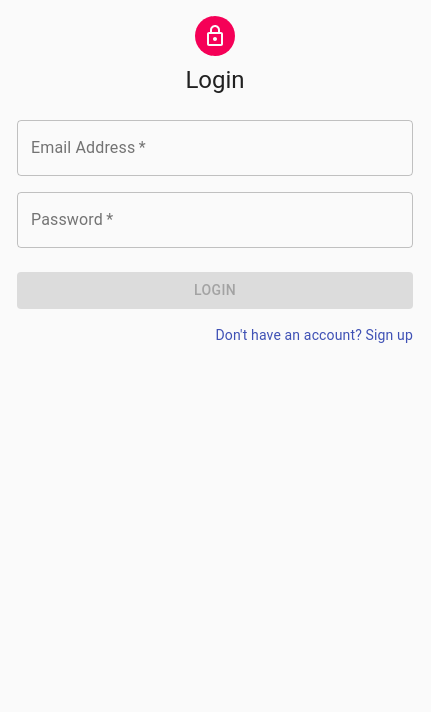
Scenario: Login page shows error after incorrect login
Type "1" into the field with id "email" at (215, 148), box [17, 120, 413, 176]
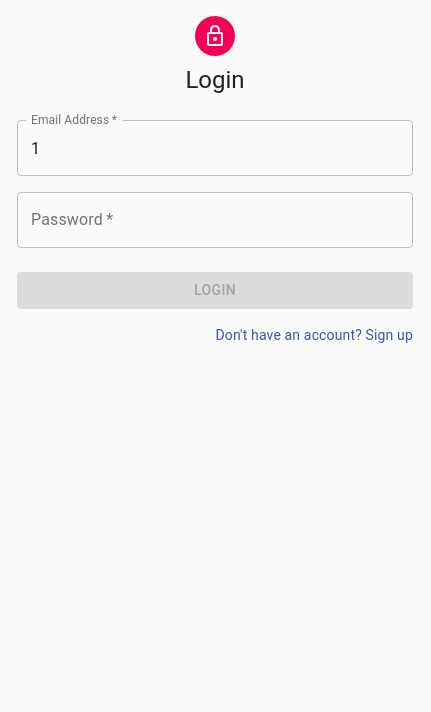
Type "1" into the password field labelled "Password *" at (215, 220), box [17, 192, 413, 248]
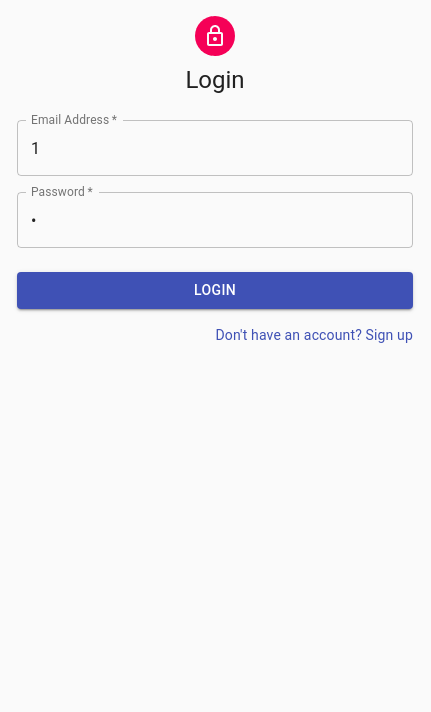
Click the button "Login" at (215, 290), box [17, 272, 413, 308]
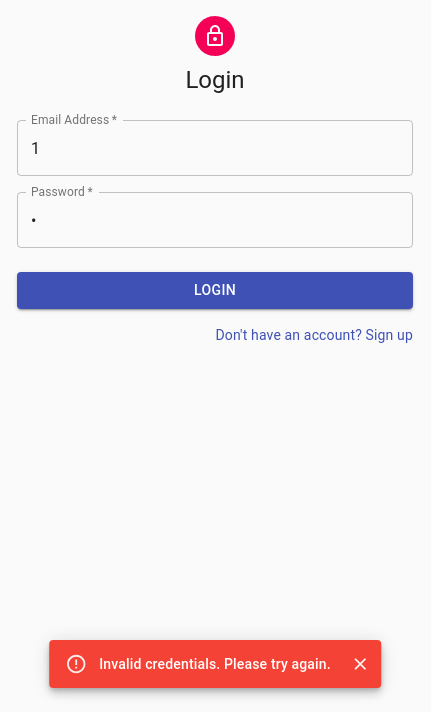
Expected: the text "Invalid credentials. Please try again." is shown, [99, 656, 331, 672]
